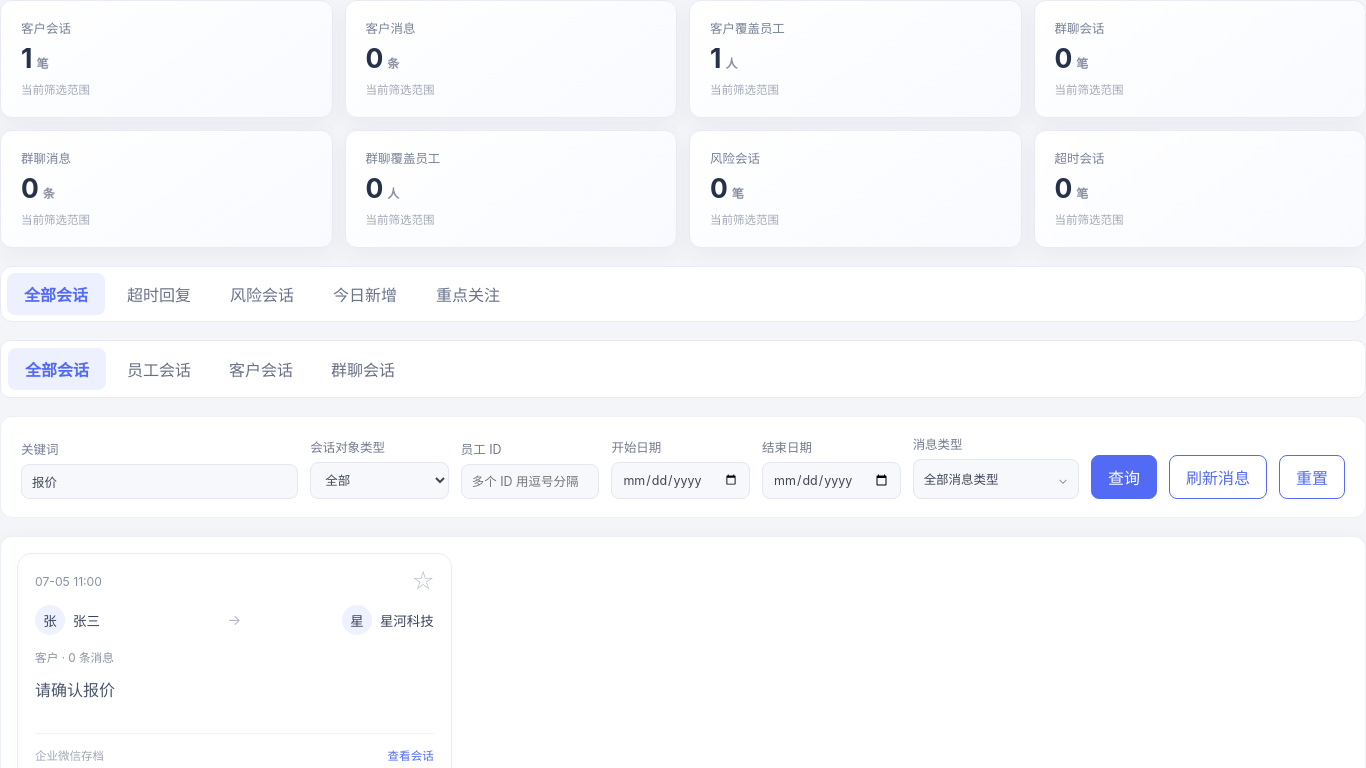
Scenario: ConversationGlobalPage › opens the detail drawer and retries without changing list filters
expect the text "星河科技" is shown: met, box left=380, top=610, right=434, bottom=630
Click the button "查看会话" at {"x": 411, "y": 755}, box left=388, top=745, right=434, bottom=765
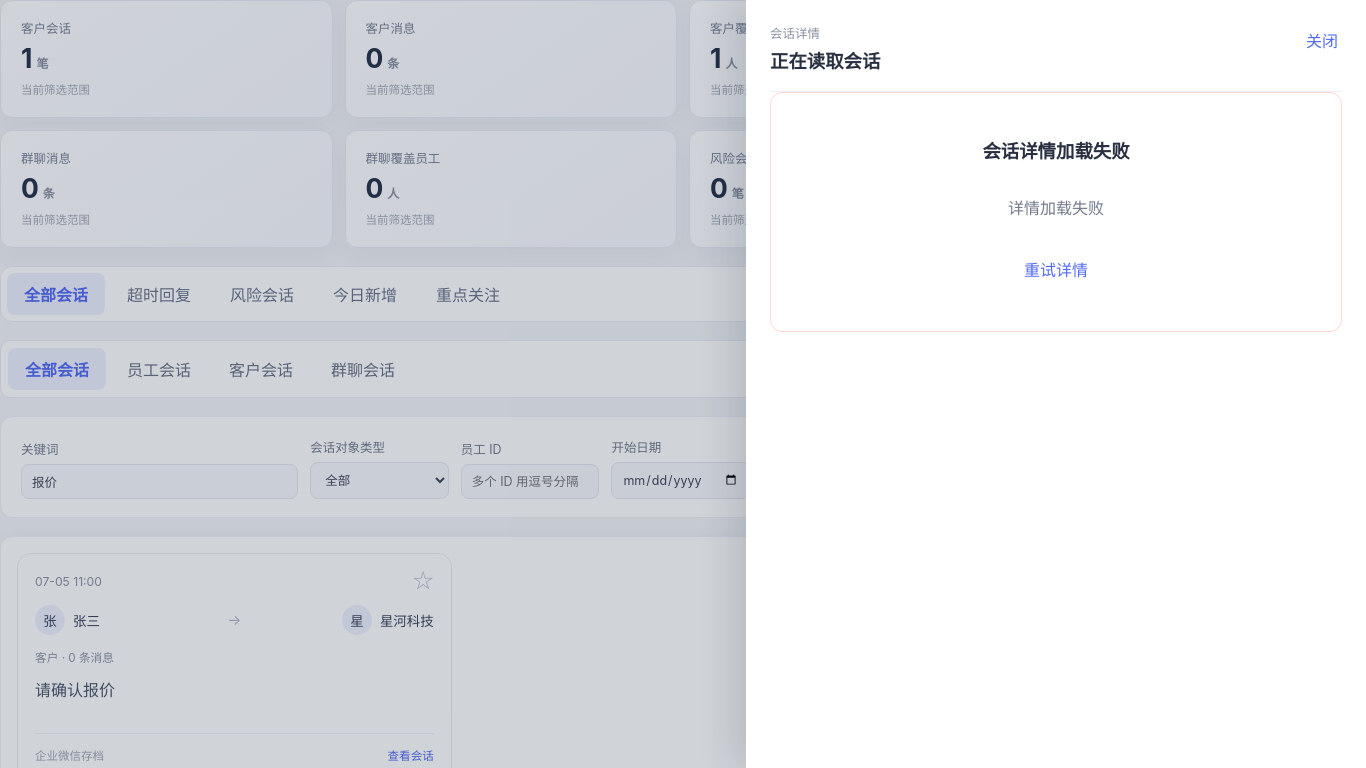
expect the text "详情加载失败" is shown: met, box left=1008, top=195, right=1104, bottom=219
Click the button "重试详情" at {"x": 1056, "y": 269}, box left=1020, top=251, right=1092, bottom=287
(page scrolled)
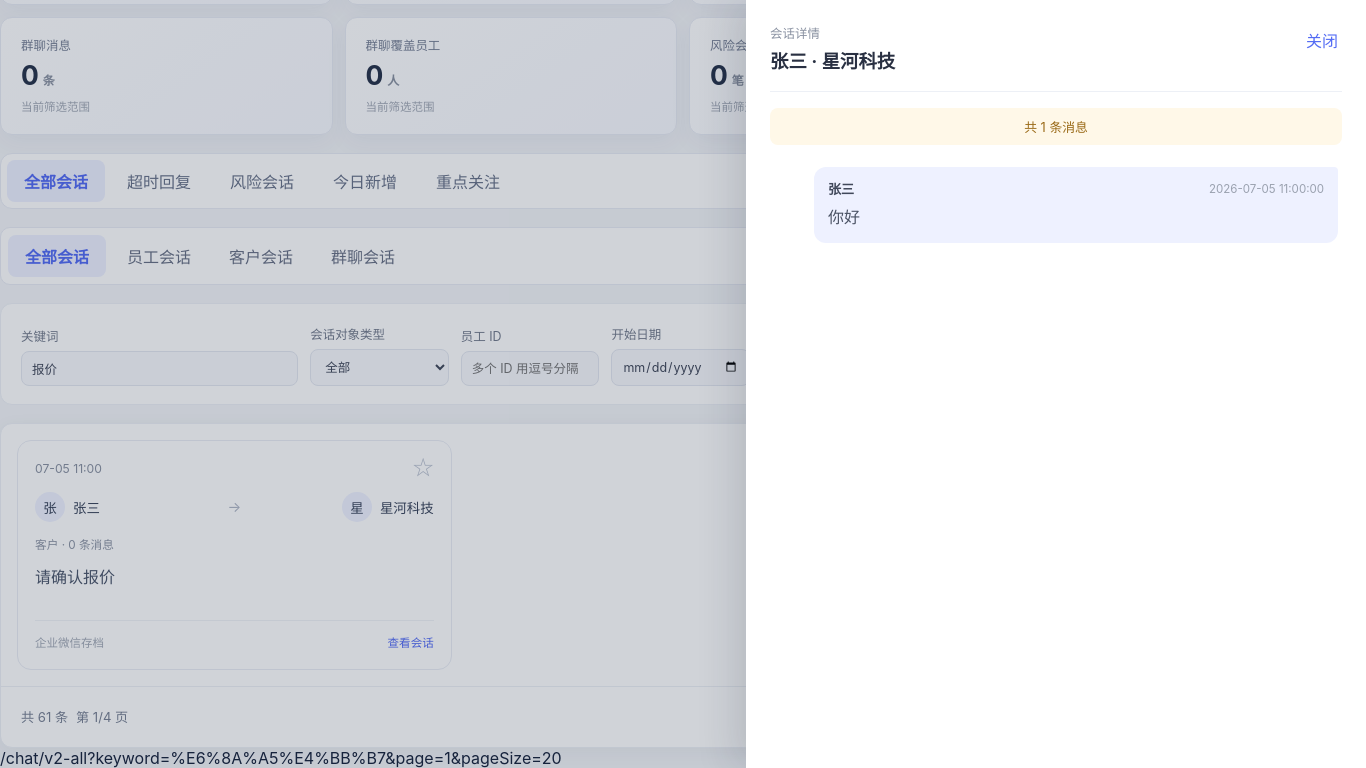
expect the text named "当前地址" shows "keyword=": met, box left=87, top=748, right=562, bottom=767
expect the dialog "会话详情" is shown: met, box left=746, top=0, right=1365, bottom=767
expect the text "你好" is shown: met, box left=828, top=207, right=860, bottom=227
